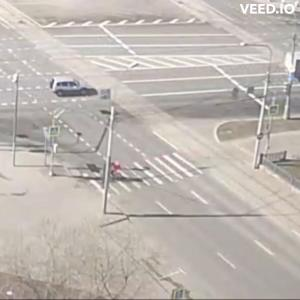car: (52, 78, 99, 99)
